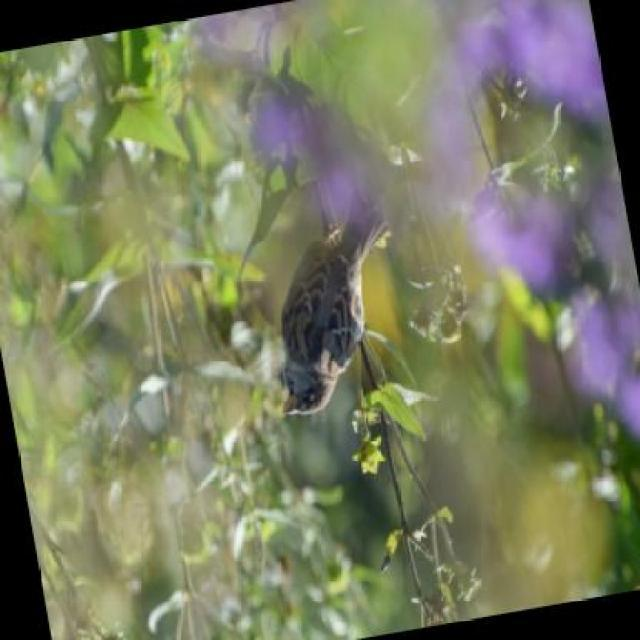Bird: (275, 194, 387, 425)
